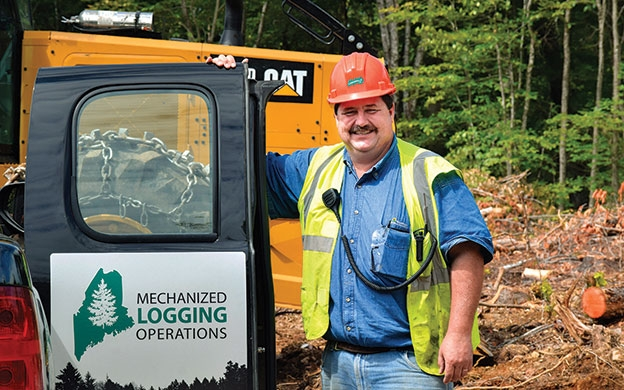epi: (243, 49, 490, 390)
